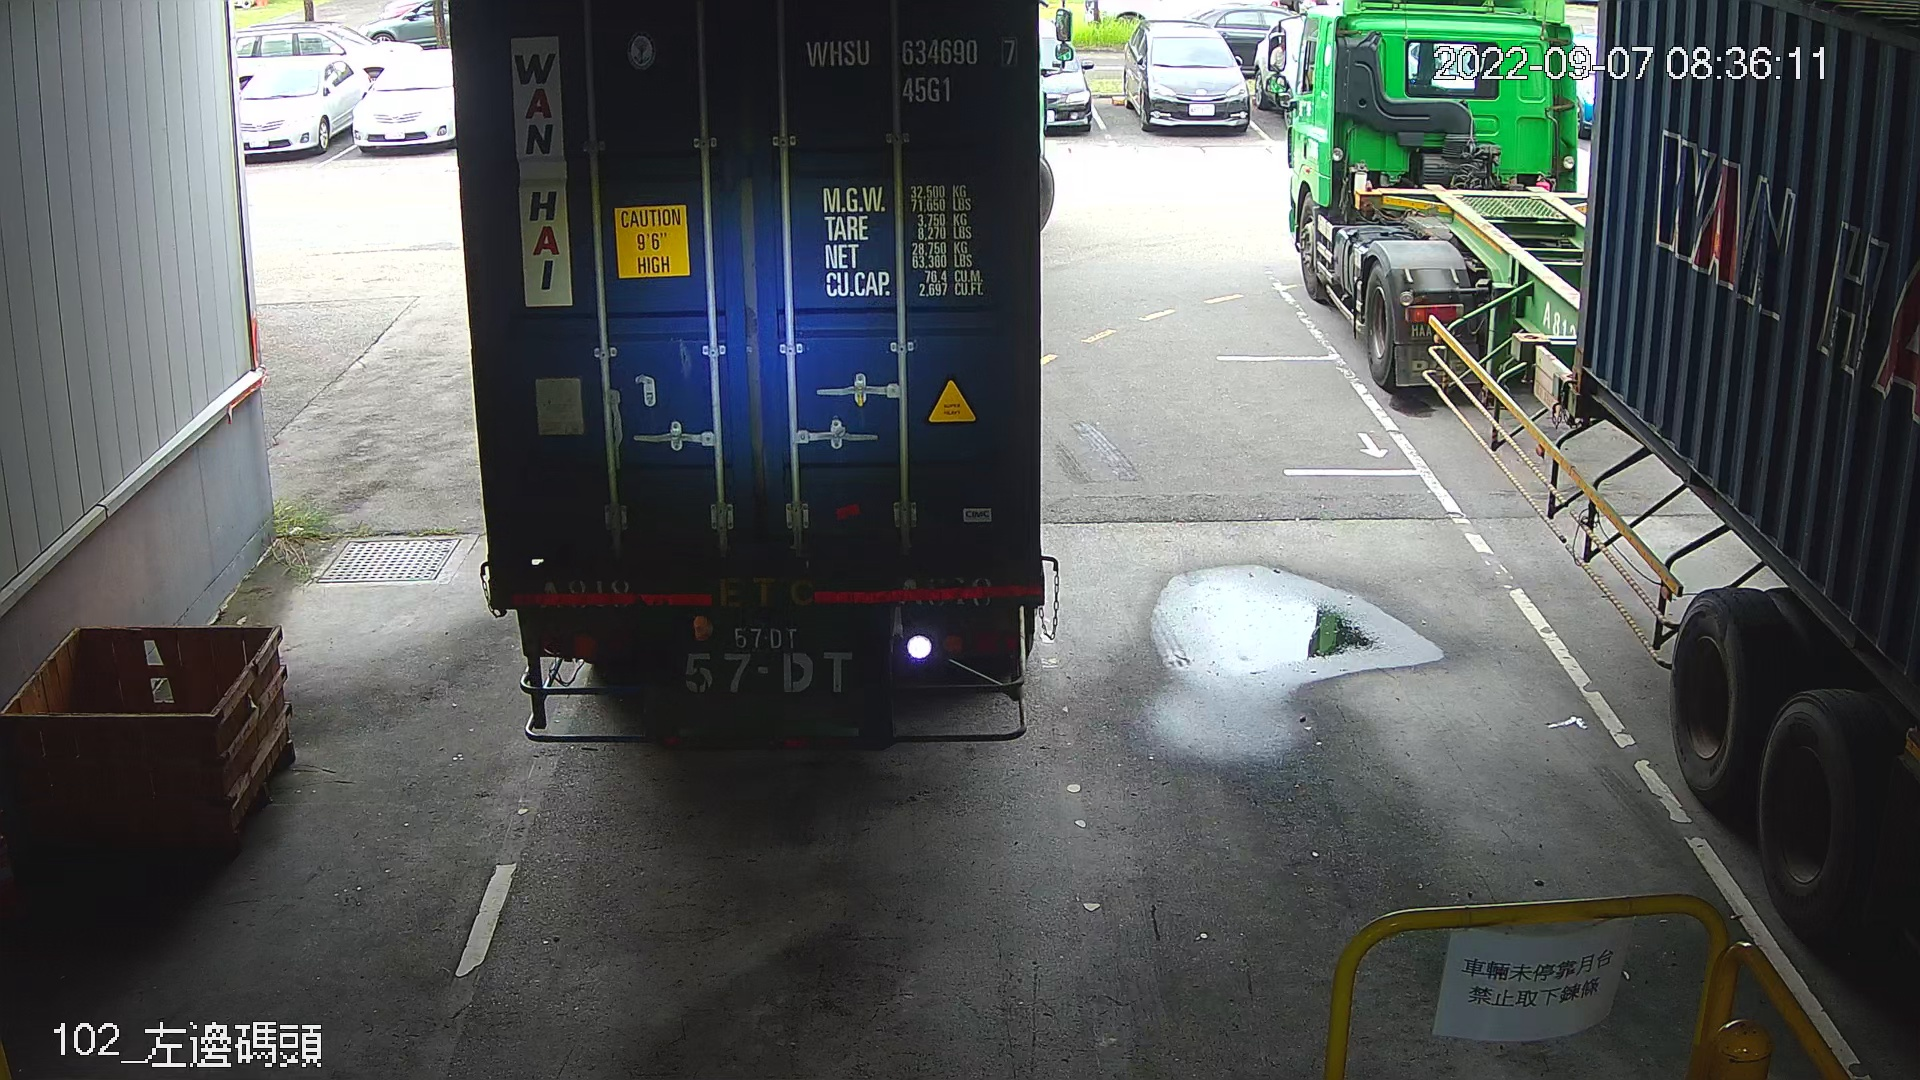container: (794, 24, 1029, 113)
